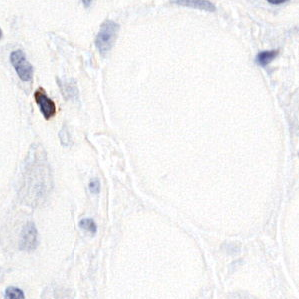Lymphocyte: (31, 85, 58, 120)
